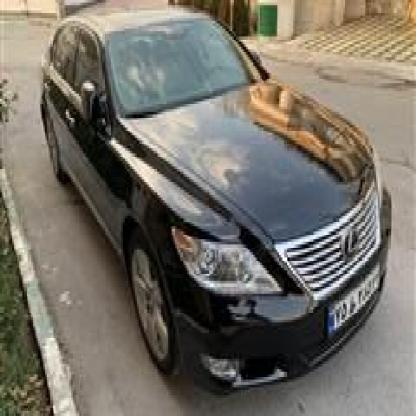Car: (26, 8, 397, 403)
